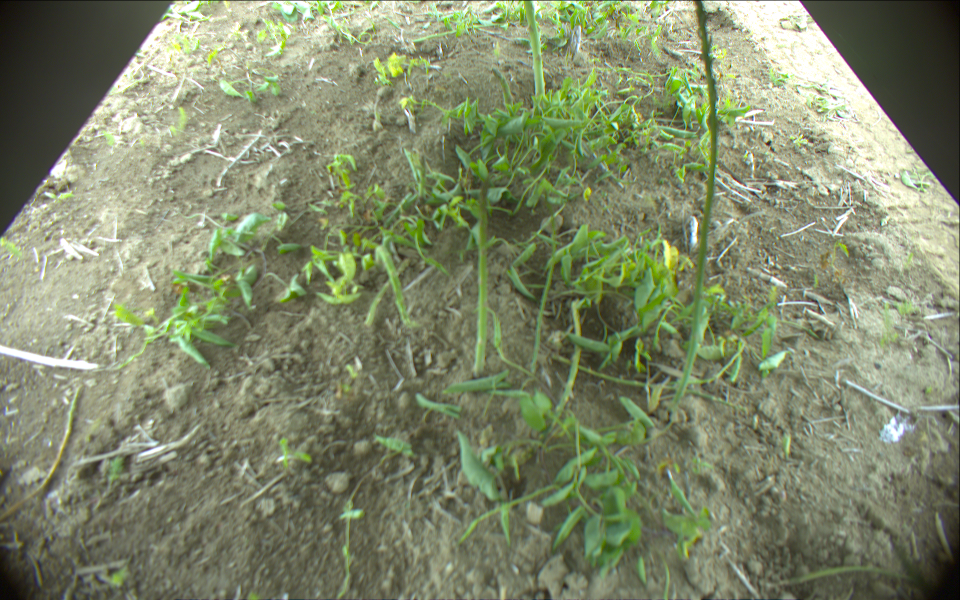aspa: (668, 1, 719, 411), (1, 382, 83, 521), (471, 172, 496, 377), (549, 300, 583, 435), (365, 251, 412, 327), (520, 1, 545, 98), (379, 245, 410, 323), (492, 68, 516, 108)
